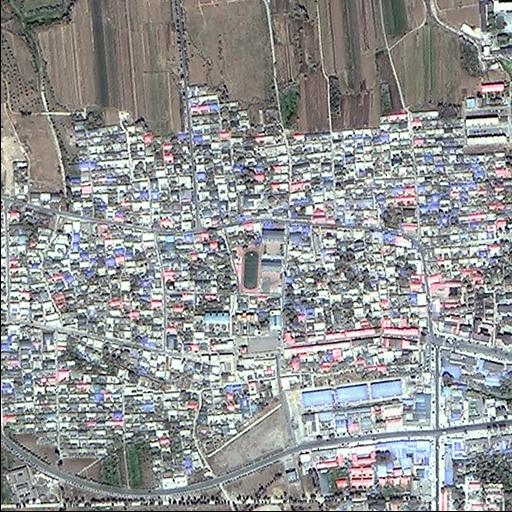school: (226, 218, 286, 295)
